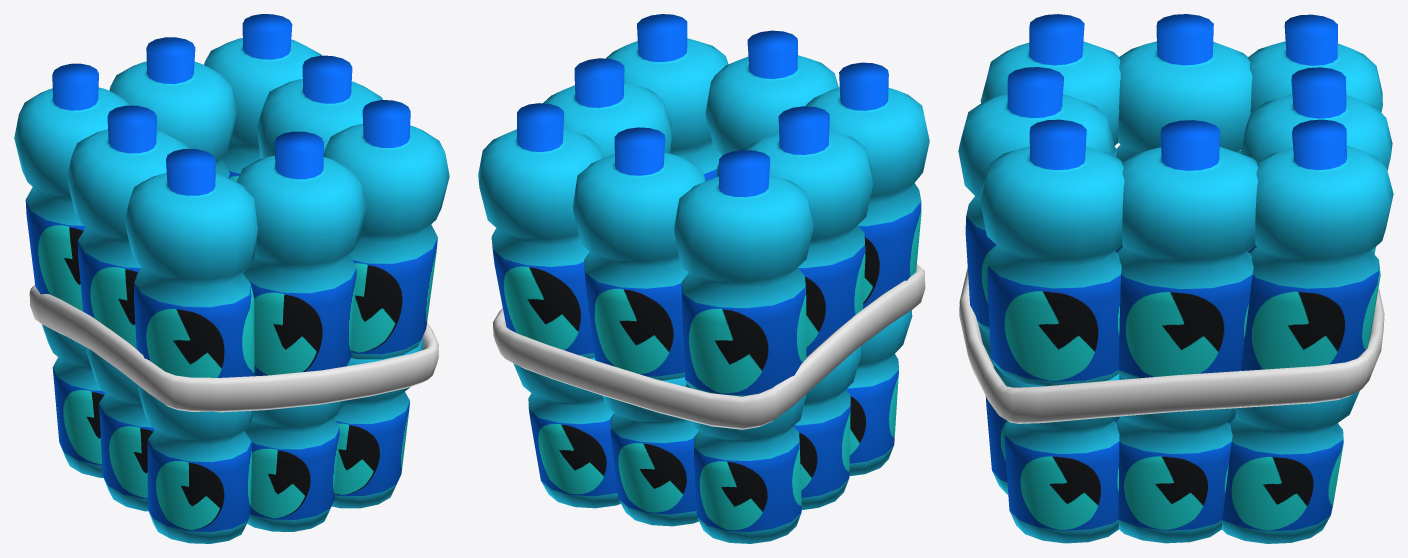
Rendered from prullenbak.fbx.
The picture shows the model from 3 angles, left to right: view 1: azimuth 30°, elevation 25°; view 2: azimuth 150°, elevation 25°; view 3: azimuth 270°, elevation 25°; orthographic projection. The views are drawn at different scales.
Visible parts, largest first — view 1: Cylinder.008; view 2: Cylinder.008; view 3: Cylinder.008.
Boxes of the visible parts, x1,y1,x2,y2 form: Cylinder.008: (14,14,449,543); Cylinder.008: (478,14,929,543); Cylinder.008: (958,14,1393,543).
Bounding box in the file's own units: 423 × 489 × 471.
